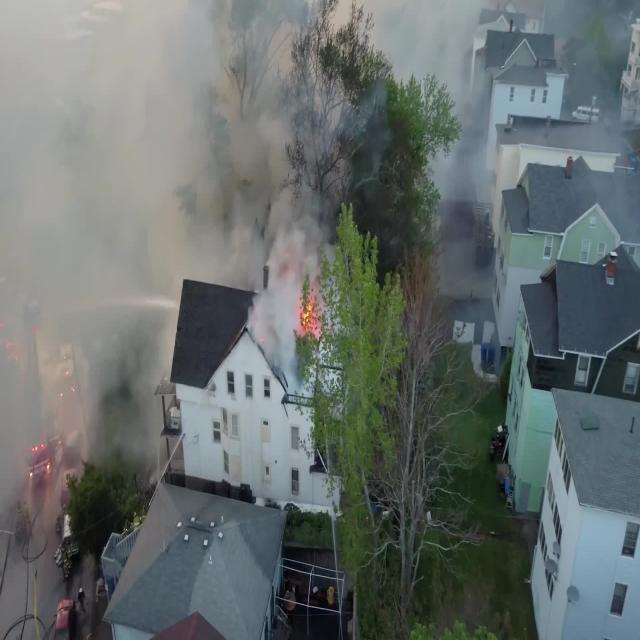Smoke: (5, 18, 176, 366), (188, 10, 279, 278)
